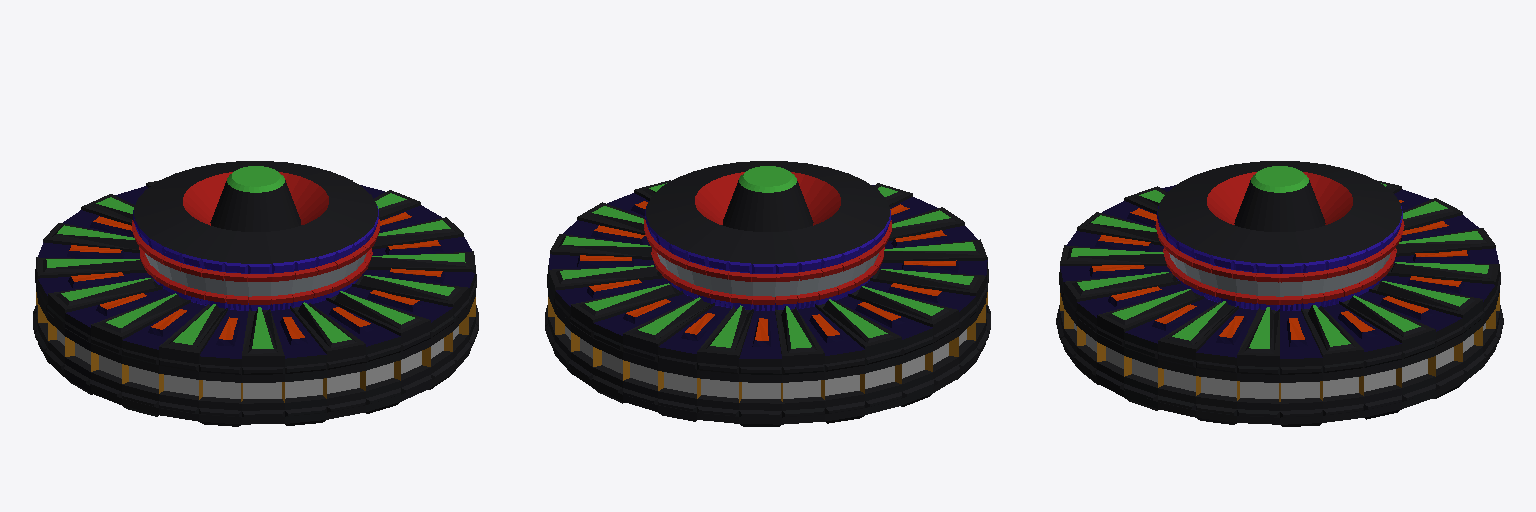
The model's file is UFO.obj.
The picture shows the model from 3 angles: view 1: azimuth 30°, elevation 25°; view 2: azimuth 150°, elevation 25°; view 3: azimuth 270°, elevation 25°; orthographic projection.
Visible parts, largest first — view 1: Circle.026_Circle.001; view 2: Circle.026_Circle.001; view 3: Circle.026_Circle.001.
Boxes of the visible parts, box(x1,y1,x2,y2) form: Circle.026_Circle.001: box(33, 161, 478, 426); Circle.026_Circle.001: box(545, 161, 990, 426); Circle.026_Circle.001: box(1056, 161, 1503, 426).
Size of the model in its own units: 116 by 45.45 by 116.